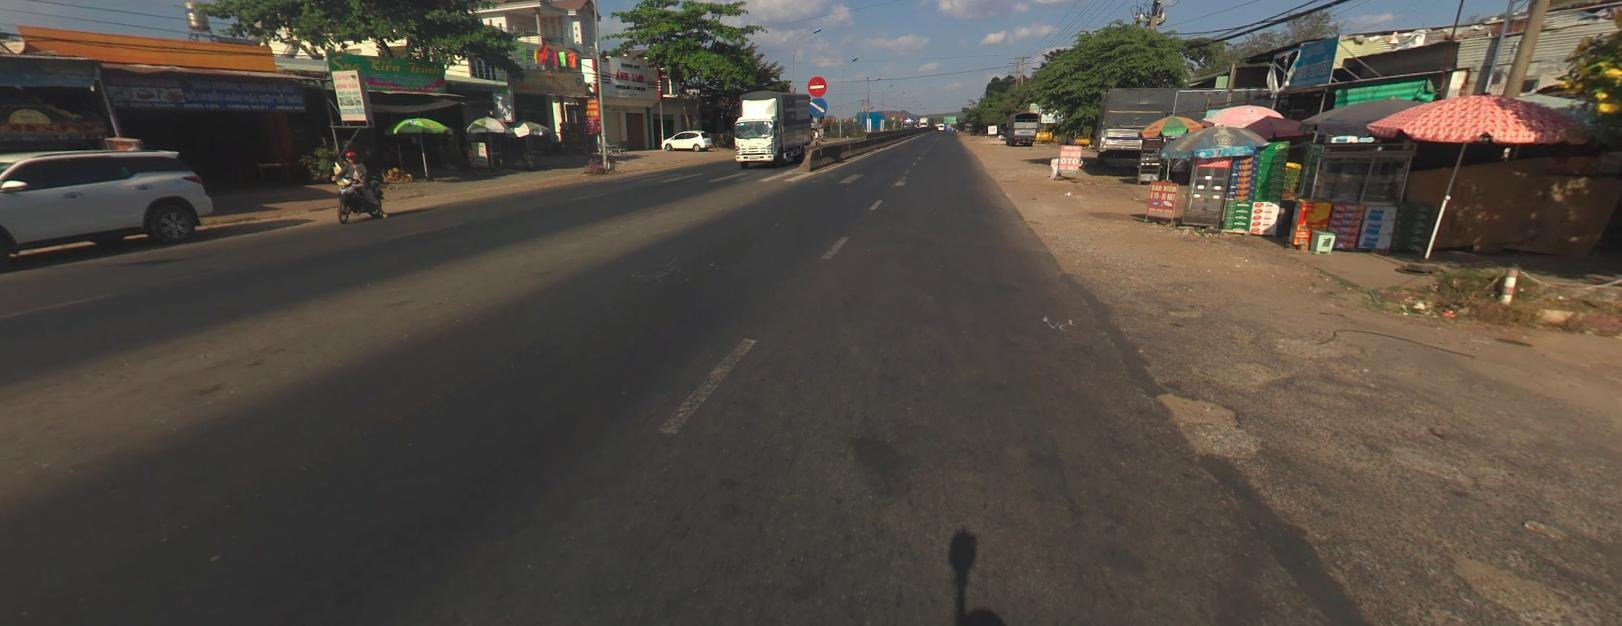Cam nguoc chieu: (805, 74, 827, 95)
Hieu lenh: (805, 95, 827, 117)
